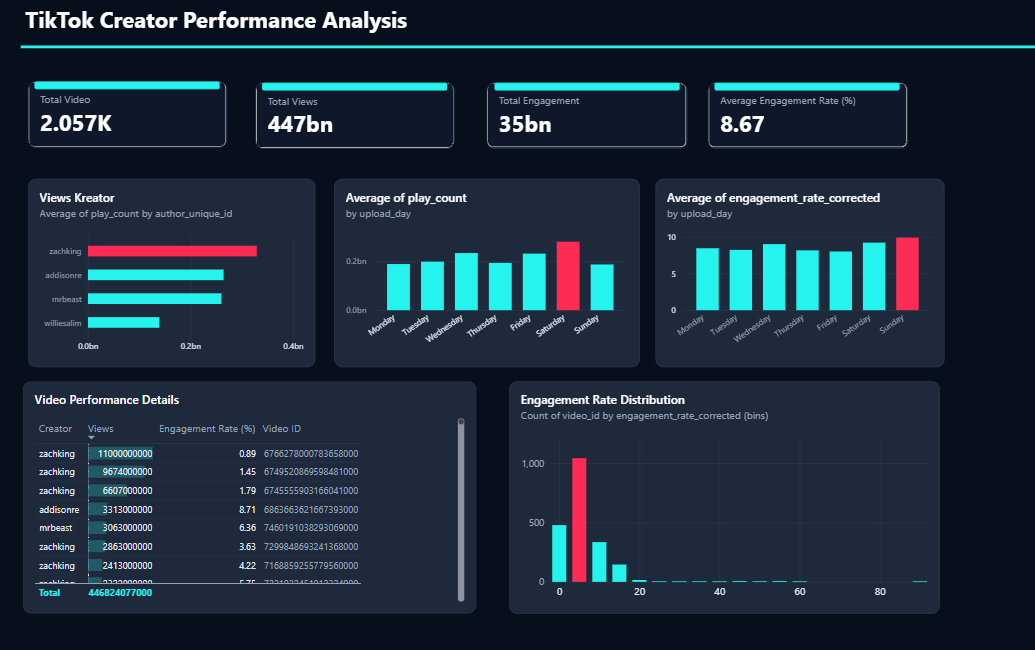

What the dashboard file says about the page in this screenshot:
{"tool":"powerbi","page":{"name":"Page 1","canvas":[1920,1080],"ordinal":0},"visuals":[{"type":"cardVisual","fields":{"Data":["Sum(tiktok_marketing_clean.play_count)"]},"box":[371.9,126.8,288,96],"z":0},{"type":"textbox","box":[32.6,12.7,566.4,92.3],"z":1000},{"type":"cardVisual","fields":{"Data":["Sum(tiktok_marketing_clean.total_engagement)"]},"box":[707.6,127,290.7,95.7],"z":2000},{"type":"cardVisual","fields":{"Data":["Avg(tiktok_marketing_clean.engagement_rate_corrected)"]},"box":[1027.6,127,289.3,95.7],"z":3000},{"type":"clusteredBarChart","title":"Views Kreator ","fields":{"Category":["tiktok_marketing_clean.author_unique_id"],"Y":["Avg(tiktok_marketing_clean.play_count)"]},"box":[43.7,265.8,416.2,272.5],"z":4000},{"type":"clusteredColumnChart","fields":{"Category":["tiktok_marketing_clean.upload_day"],"Y":["Avg(tiktok_marketing_clean.play_count)"]},"box":[486.9,265.6,442.5,272.5],"z":5000},{"type":"clusteredColumnChart","fields":{"Category":["tiktok_marketing_clean.upload_day"],"Y":["Avg(tiktok_marketing_clean.engagement_rate_corrected)"]},"box":[952.4,265.8,418.8,272.5],"z":6000},{"type":"tableEx","title":"Video Performance Details","fields":{"Values":["tiktok_marketing_clean.author_unique_id","Sum(tiktok_marketing_clean.play_count)","tiktok_marketing_clean.engagement_rate_corrected","tiktok_marketing_clean.video_id"]},"box":[35.9,558.8,656,336],"z":7000},{"type":"clusteredColumnChart","title":"Engagement Rate Distribution","fields":{"Category":["tiktok_marketing_clean.engagement_rate_corrected (bins)"],"Y":["CountNonNull(tiktok_marketing_clean.video_id)"]},"box":[740,558.3,623.3,336.7],"z":8000},{"type":"cardVisual","fields":{"Data":["CountNonNull(tiktok_marketing_clean.video_id)"]},"box":[43.5,124.9,288,96],"z":9000},{"type":"shape","box":[32.6,0,1849.5,150.2],"z":10000},{"type":"shape","box":[381.5,127,268.7,12],"z":11000},{"type":"shape","box":[52.3,125.3,268.7,12],"z":12000},{"type":"shape","box":[719,127,268.7,12],"z":13000},{"type":"shape","box":[1036.9,127,268.7,12],"z":14000}]}

Visuals, with their boxes on the page's 1920x1080 design canvas (x1, y1, x2, y2). These are canvas units, not pixel positions in the 1035x650 screenshot, which may show the page scaled, cropped or inside an application window:
cardVisual - Sum(tiktok_marketing_clean.play_count): l=372, t=127, r=660, b=223
textbox: l=33, t=13, r=599, b=105
cardVisual - Sum(tiktok_marketing_clean.total_engagement): l=708, t=127, r=998, b=223
cardVisual - Avg(tiktok_marketing_clean.engagement_rate_corrected): l=1028, t=127, r=1317, b=223
"Views Kreator " clusteredBarChart: l=44, t=266, r=460, b=538
clusteredColumnChart - tiktok_marketing_clean.upload_day x Avg(tiktok_marketing_clean.play_count): l=487, t=266, r=929, b=538
clusteredColumnChart - tiktok_marketing_clean.upload_day x Avg(tiktok_marketing_clean.engagement_rate_corrected): l=952, t=266, r=1371, b=538
"Video Performance Details" tableEx: l=36, t=559, r=692, b=895
"Engagement Rate Distribution" clusteredColumnChart: l=740, t=558, r=1363, b=895
cardVisual - CountNonNull(tiktok_marketing_clean.video_id): l=44, t=125, r=332, b=221
shape: l=33, t=0, r=1882, b=150
shape: l=382, t=127, r=650, b=139
shape: l=52, t=125, r=321, b=137
shape: l=719, t=127, r=988, b=139
shape: l=1037, t=127, r=1306, b=139
